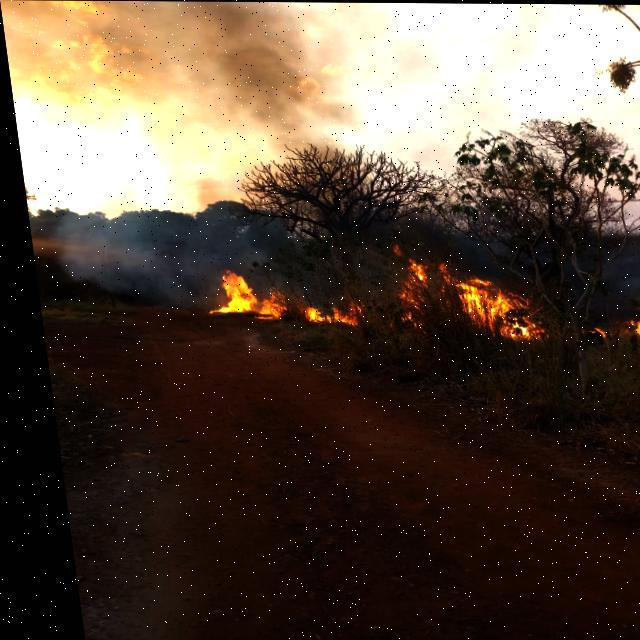Fire: (387, 255, 536, 338), (208, 272, 280, 322), (294, 300, 358, 324), (612, 316, 639, 340)
